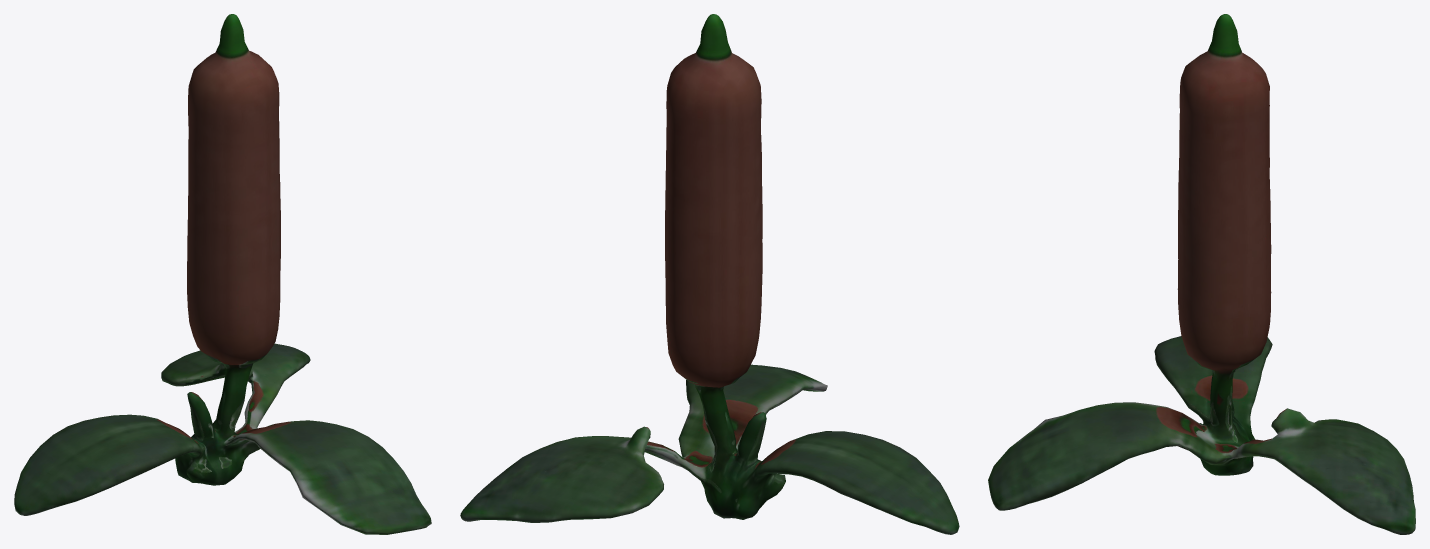
File: ba12bedaa41e_1d9949a53caf_sausageplant__3d_as.glb
The picture shows the model from 3 angles, left to right: view 1: azimuth 30°, elevation 25°; view 2: azimuth 150°, elevation 25°; view 3: azimuth 270°, elevation 25°; orthographic projection. The views are drawn at different scales.
Visible parts, largest first — view 1: mesh; view 2: mesh; view 3: mesh.
Part boxes in pixels (x1,y1,x2,y2): mesh: [14, 14, 431, 534]; mesh: [460, 14, 959, 534]; mesh: [988, 14, 1415, 534].
Bounding box in the file's own units: 0.8387 × 0.9979 × 0.8314.
Materials: 1 (1 with a texture image).
